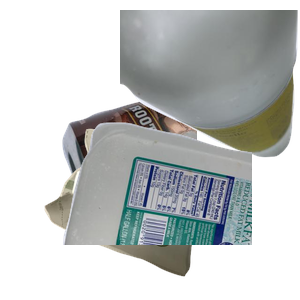glass: (120, 10, 300, 160)
metal: (60, 79, 300, 259)
plastic: (60, 120, 300, 300)
trash: (42, 126, 249, 300)
